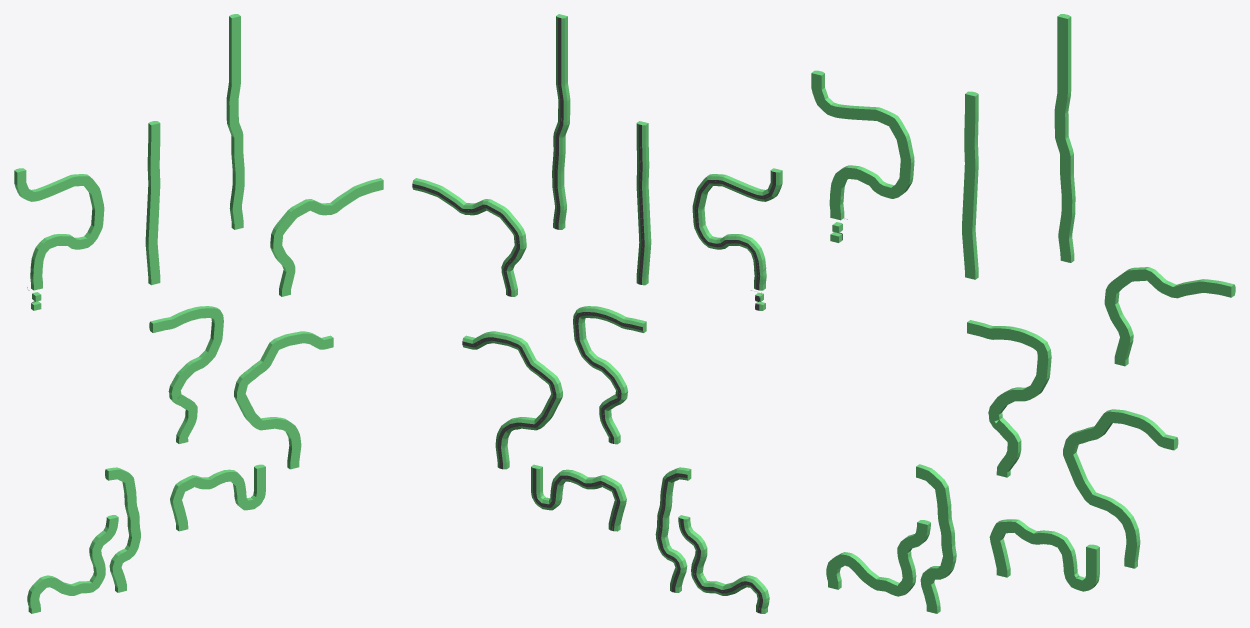
File: Roads.fbx
3 views of the same model, side by side, from view 1: azimuth 30°, elevation 25°; view 2: azimuth 150°, elevation 25°; view 3: azimuth 330°, elevation 25° (orthographic). The views are drawn at different scales.
Parts seen in each view (by area): view 1: Road 6, Road 8, Road 7, Road 9, Road 4, Road 2, Road 5, Road 1, Road 3; view 2: Road 6, Road 8, Road 7, Road 9, Road 4, Road 2, Road 5, Road 1, Road 3; view 3: Road 6, Road 8, Road 9, Road 7, Road 4, Road 2, Road 5, Road 1, Road 3.
Part boxes in pixels (x1,y1,x2,y2): Road 6: [14, 168, 104, 290]; Road 8: [234, 331, 333, 469]; Road 7: [149, 306, 223, 443]; Road 9: [226, 14, 244, 229]; Road 4: [270, 178, 383, 296]; Road 2: [170, 464, 265, 531]; Road 5: [145, 121, 160, 285]; Road 1: [27, 515, 118, 613]; Road 3: [105, 467, 140, 592]; Road 6: [692, 168, 782, 290]; Road 8: [462, 331, 562, 469]; Road 7: [573, 306, 646, 444]; Road 9: [552, 14, 570, 229]; Road 4: [412, 178, 526, 296]; Road 2: [531, 464, 626, 531]; Road 5: [636, 121, 651, 285]; Road 1: [678, 515, 769, 613]; Road 3: [655, 467, 691, 592]; Road 6: [811, 70, 914, 220]; Road 8: [1063, 409, 1178, 568]; Road 9: [1054, 14, 1075, 262]; Road 7: [967, 320, 1051, 477]; Road 4: [1104, 267, 1235, 366]; Road 2: [989, 519, 1099, 591]; Road 5: [962, 91, 978, 279]; Road 1: [826, 520, 930, 596]; Road 3: [916, 464, 956, 613].
Bounding box in the file's own units: 13187 × 18800 × 348.
